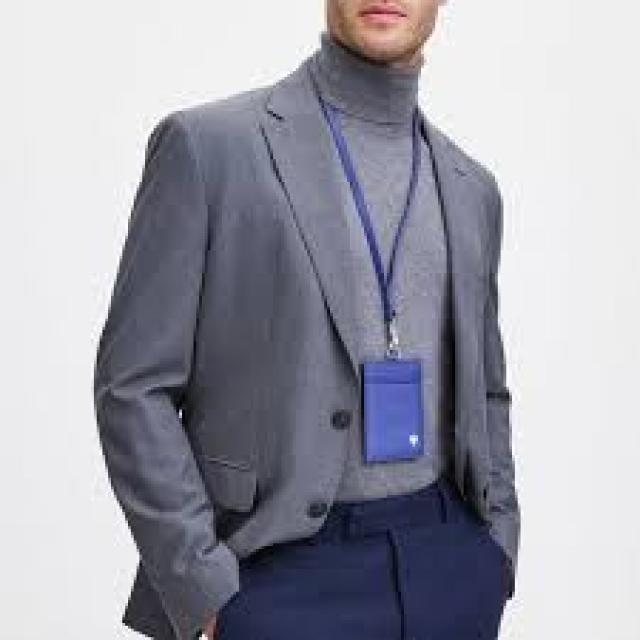id_card: (316, 80, 436, 467)
